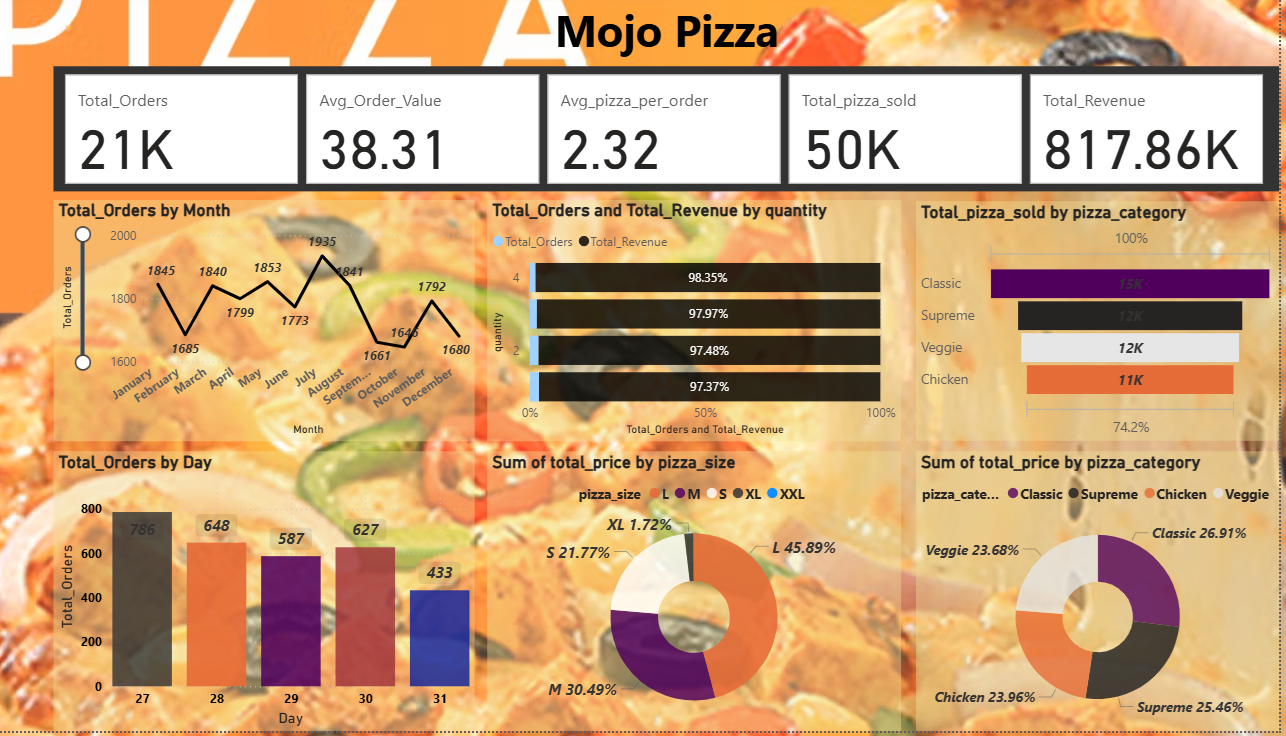

The page's visual inventory and layout, read from the dashboard file:
{"tool":"powerbi","page":{"name":"Page 1","canvas":[1280,720],"ordinal":0},"visuals":[{"type":"columnChart","fields":{"Category":["pizza_sales1 (2).order_date.Variation.Date Hierarchy.Day"],"Y":["pizza_sales1 (2).Total_Orders"]},"box":[80.7,446.3,412.1,273.9],"z":0},{"type":"lineChart","fields":{"Category":["pizza_sales1 (2).order_date.Variation.Date Hierarchy.Month"],"Y":["pizza_sales1 (2).Total_Orders"]},"box":[80.7,200.5,412.1,236],"z":1000},{"type":"donutChart","fields":{"Category":["pizza_sales1 (2).pizza_category"],"Y":["Sum(pizza_sales1 (2).total_price)"]},"box":[924.5,446.3,355.8,273.9],"z":2000},{"type":"pieChart","fields":{"Category":["pizza_sales1 (2).pizza_size"],"Y":["Sum(pizza_sales1 (2).total_price)"]},"box":[505,446.3,404.8,273.9],"z":3000},{"type":"funnel","fields":{"Y":["pizza_sales1 (2).Total_pizza_sold"],"Category":["pizza_sales1 (2).pizza_category"]},"box":[924.5,201.8,355.8,234.8],"z":4000},{"type":"hundredPercentStackedBarChart","fields":{"Y":["pizza_sales1 (2).Total_Orders","pizza_sales1 (2).Total_Revenue"],"Category":["pizza_sales1 (2).quantity"]},"box":[505,200.5,404.8,236],"z":5000},{"type":"cardVisual","fields":{"Data":["pizza_sales1 (2).Total_Orders","pizza_sales1 (2).Avg_Order_Value","pizza_sales1 (2).Avg_pizza_per_order","pizza_sales1 (2).Total_pizza_sold","pizza_sales1 (2).Total_Revenue"]},"box":[80.7,69.7,1199.6,122.3],"z":6000},{"type":"textbox","box":[566.2,0,289.8,69.7],"z":7000}]}

Visuals, with their boxes in screenshot pixels (x1, y1, x2, y2), scaled from the page's 1280x720 canvas onto the 1286x736 screenshot:
columnChart - pizza_sales1 (2).order_date.Variation.Date Hierarchy.Day x pizza_sales1 (2).Total_Orders: rect(81, 456, 495, 735)
lineChart - pizza_sales1 (2).order_date.Variation.Date Hierarchy.Month x pizza_sales1 (2).Total_Orders: rect(81, 205, 495, 446)
donutChart - pizza_sales1 (2).pizza_category x Sum(pizza_sales1 (2).total_price): rect(929, 456, 1285, 735)
pieChart - pizza_sales1 (2).pizza_size x Sum(pizza_sales1 (2).total_price): rect(507, 456, 914, 735)
funnel - pizza_sales1 (2).Total_pizza_sold x pizza_sales1 (2).pizza_category: rect(929, 206, 1285, 446)
hundredPercentStackedBarChart - pizza_sales1 (2).Total_Orders x pizza_sales1 (2).Total_Revenue: rect(507, 205, 914, 446)
cardVisual - pizza_sales1 (2).Total_Orders x pizza_sales1 (2).Avg_Order_Value: rect(81, 71, 1285, 196)
textbox: rect(569, 0, 860, 71)
